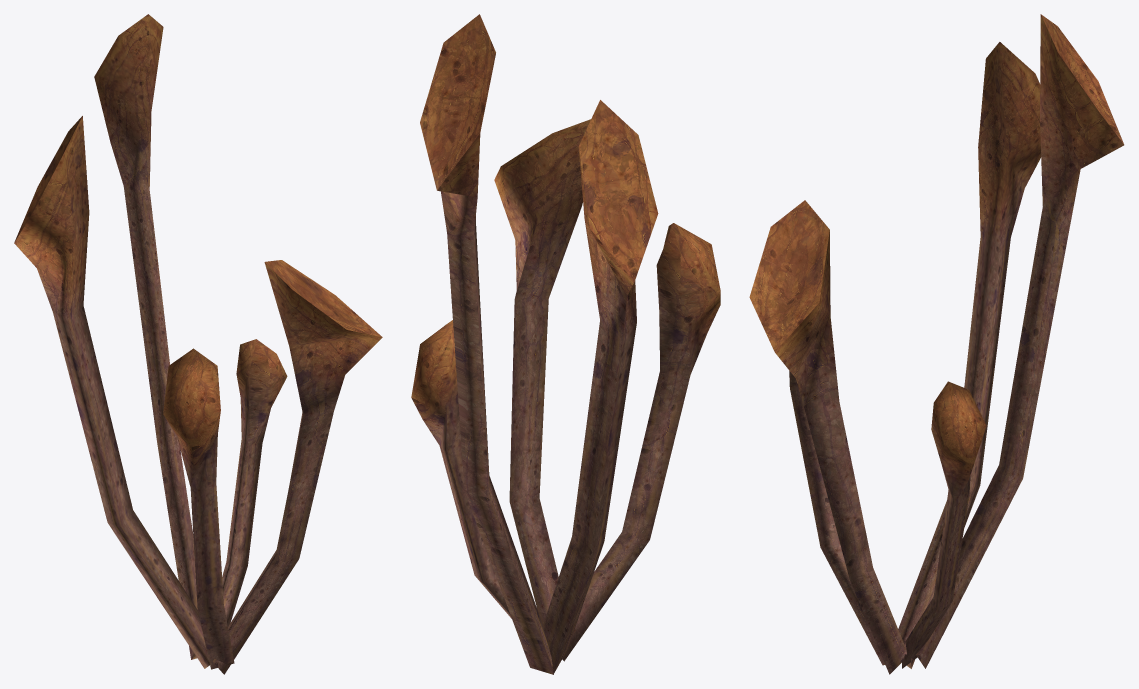
The model's file is Shroom_Plant2_4_L2.fbx.
3 views of the same model, side by side, from view 1: azimuth 30°, elevation 25°; view 2: azimuth 150°, elevation 25°; view 3: azimuth 270°, elevation 25° (orthographic). The views are drawn at different scales.
Parts seen in each view (by area): view 1: polySurface296; view 2: polySurface296; view 3: polySurface296.
Part boxes in pixels (box(x1,y1,x2,y2)): polySurface296: box(14, 14, 382, 674); polySurface296: box(411, 14, 720, 674); polySurface296: box(749, 14, 1124, 674).
Bounding box in the file's own units: 46.01 × 109 × 56.5.
